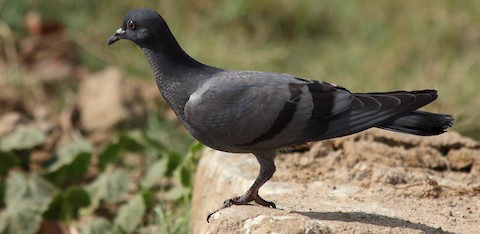pigeon: (106, 2, 456, 216)
